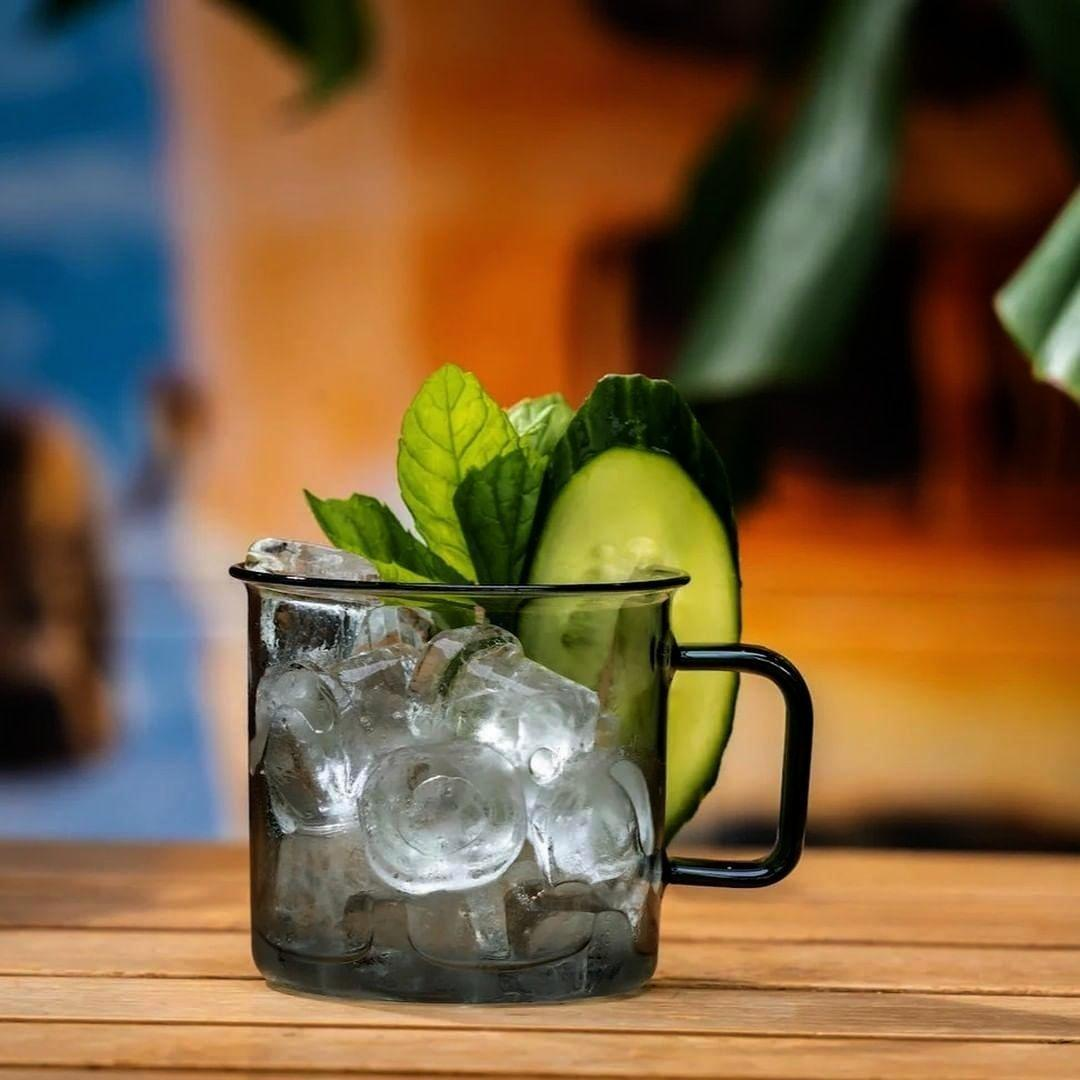glass-mug: (217, 529, 831, 1022)
